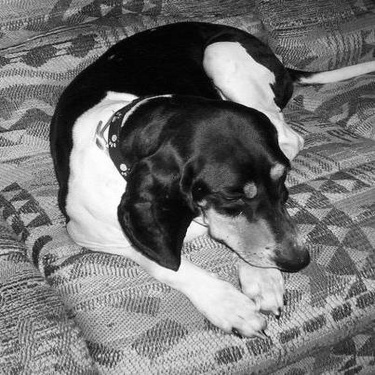dog: (45, 12, 373, 342)
